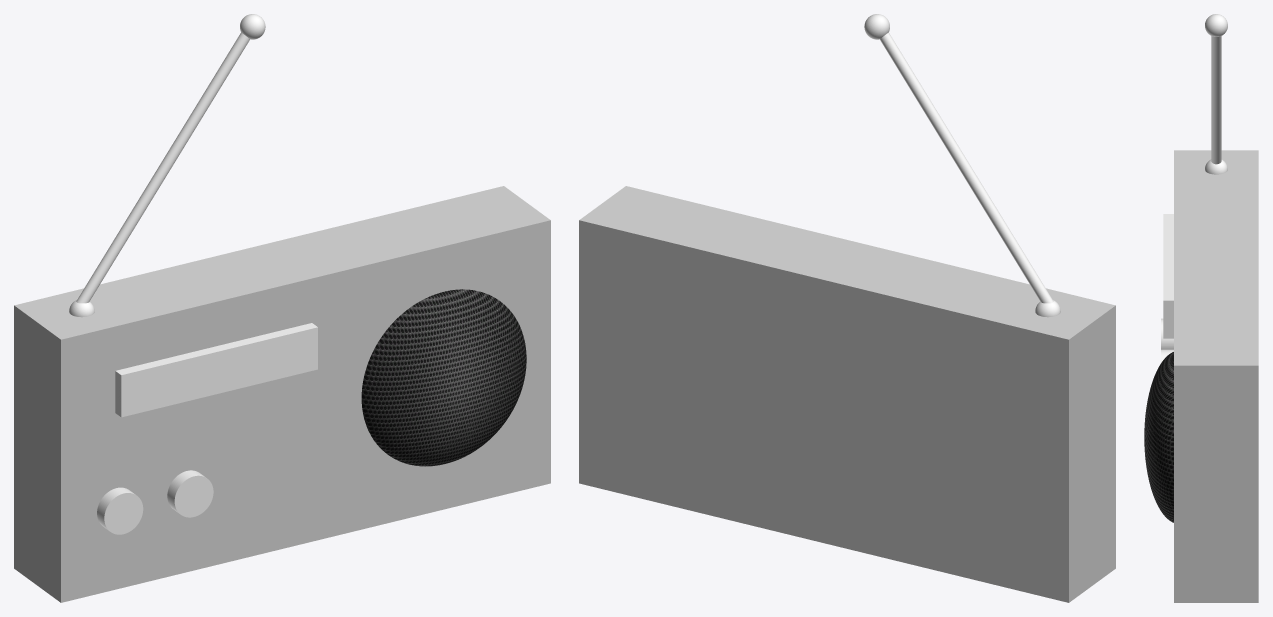
File: Crappy Radio.fbx
3 views of the same model, side by side, from view 1: azimuth 30°, elevation 25°; view 2: azimuth 150°, elevation 25°; view 3: azimuth 270°, elevation 25° (orthographic). The views are drawn at different scales.
Visible parts, largest first — view 1: node_id14 (×5), node_id11; view 2: node_id14 (×2); view 3: node_id14 (×6), node_id11.
Part boxes in pixels (x1=…): node_id14 (×5): x1=14, y1=32, x2=550, y2=602; node_id11: x1=115, y1=323, x2=317, y2=417; node_id14 (×2): x1=579, y1=32, x2=1115, y2=602; node_id14 (×6): x1=1144, y1=14, x2=1258, y2=602; node_id11: x1=1163, y1=214, x2=1173, y2=338.
Size of the model in its own units: 0.5065 by 0.512 by 0.1137.
Materials: 9 (1 with a texture image).
